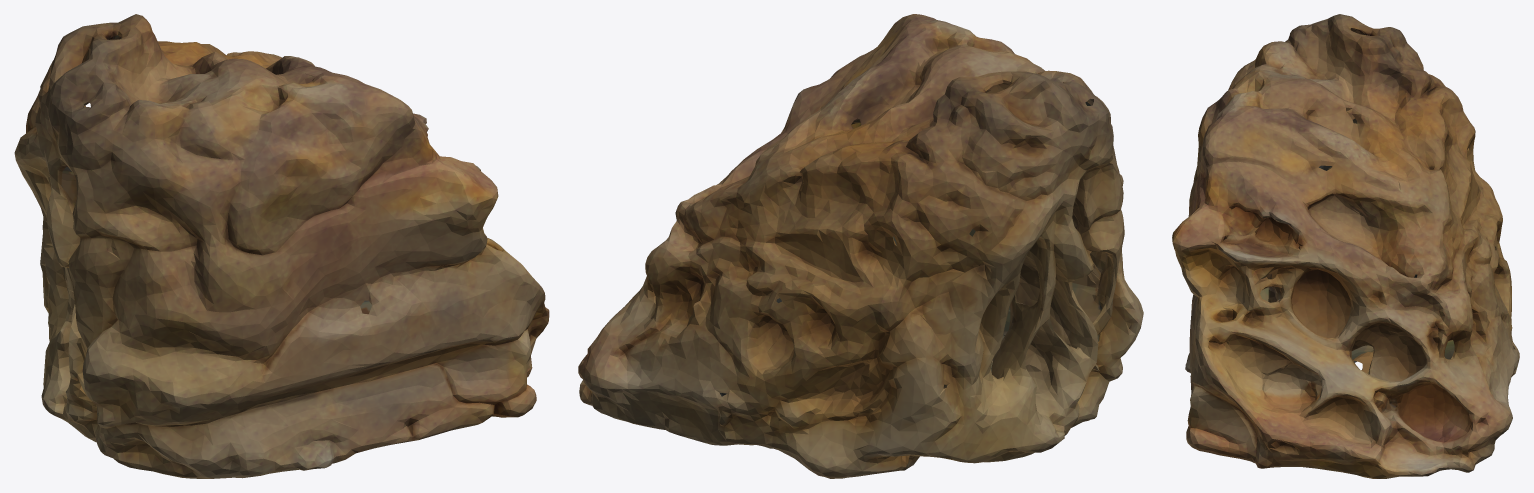
3 renders of one model, left to right at view 1: azimuth 30°, elevation 25°; view 2: azimuth 150°, elevation 25°; view 3: azimuth 270°, elevation 25°, orthographic. The views are drawn at different scales.
Parts seen in each view (by area): view 1: world; view 2: world; view 3: world.
Boxes of the visible parts, x1,y1,x2,y2 form: world: (14,14,549,478); world: (578,14,1143,478); world: (1172,14,1519,478).
Bounding box in the file's own units: 0.9 × 0.7273 × 0.703.
1 material, 1 textured.
